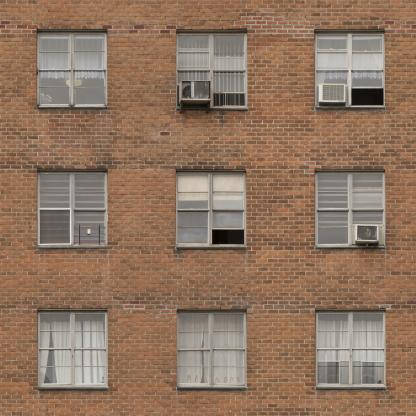Building Outline: (0, 0, 415, 415)
Facade: (0, 0, 415, 415)
Floor: (1, 156, 416, 289), (1, 22, 416, 148), (1, 297, 416, 409)
Floor Slab: (1, 409, 416, 416), (1, 14, 416, 21), (1, 289, 416, 296), (1, 149, 416, 156)
Window: (315, 29, 385, 108), (37, 29, 107, 108), (177, 29, 247, 108), (316, 310, 386, 388), (315, 169, 385, 247), (37, 310, 107, 388), (37, 169, 107, 247), (177, 310, 247, 388), (177, 169, 247, 247)
